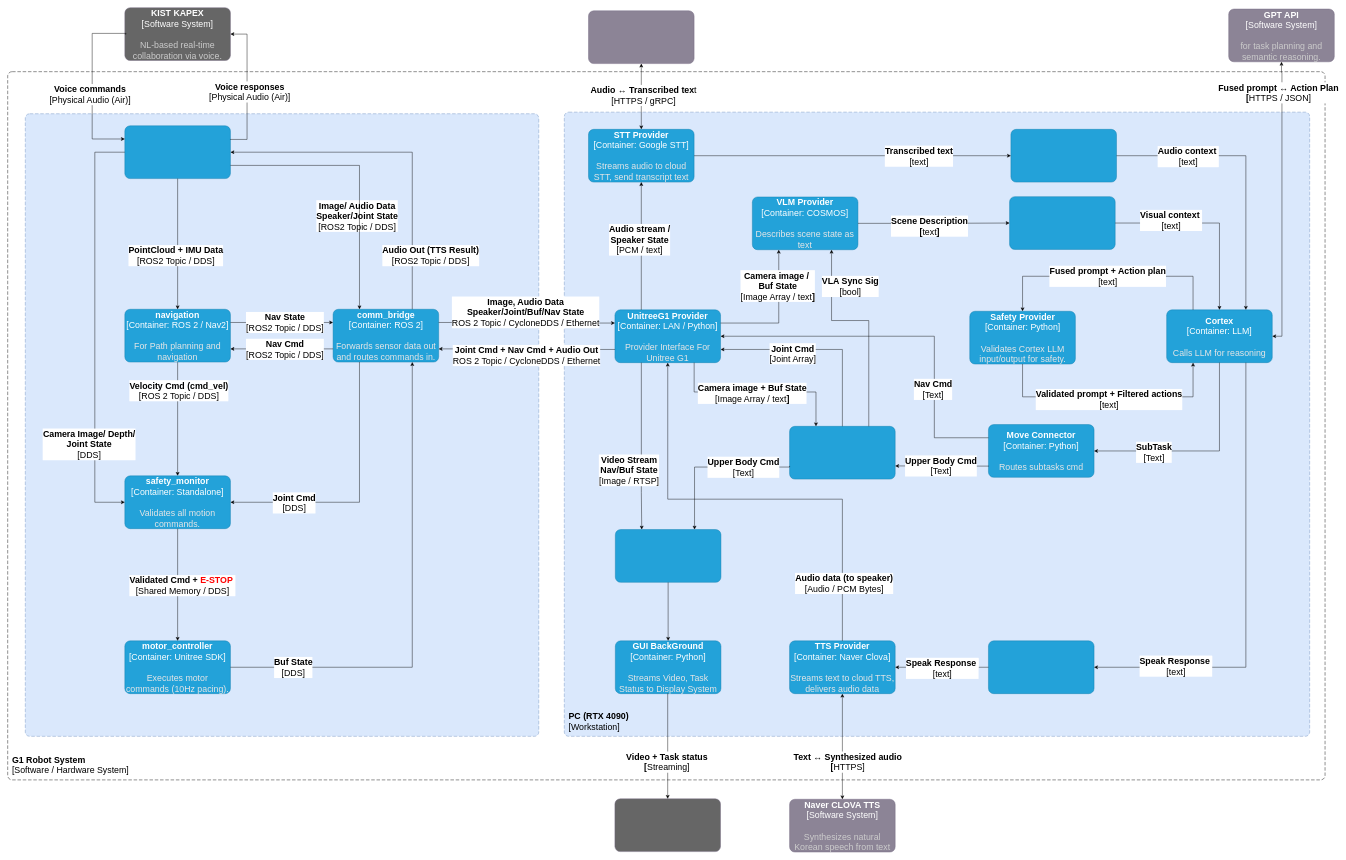
Image size: 1346x860. Some labels were removed from this diagram. The box of each missing label's shape, as (x1, y1, x2, y2) in pixels:
Display System [Software System] Live camera feed and task status dashboard: (614, 798, 720, 852)
G1 Onboard (Orin NX) [Embedded]: (25, 113, 539, 736)
Google Cloud STT [Software System] Converts voice audio to transcribed text: (588, 10, 694, 64)
IOPorvider [Container: Python] Provide Data for General Purpose: (615, 529, 721, 582)
sensors [Container: ROS 2] Handling Camera, LiDAR, IMU, Mic, Audio data: (124, 125, 230, 179)
Sound Sensor [Container: Python] Formats audio-related context for Cortex prompt: (1010, 129, 1116, 182)
Speak Connector [Container: Python] Routes speak actions to TTS Provider: (988, 640, 1094, 694)
Vision Sensor [Container: Python] Formats visual context for Cortex prompt: (1009, 196, 1115, 249)
VLA Provider [Container: Python / GPU] Runs Gr00t N1.7 (3B) inference.: (789, 426, 895, 479)
